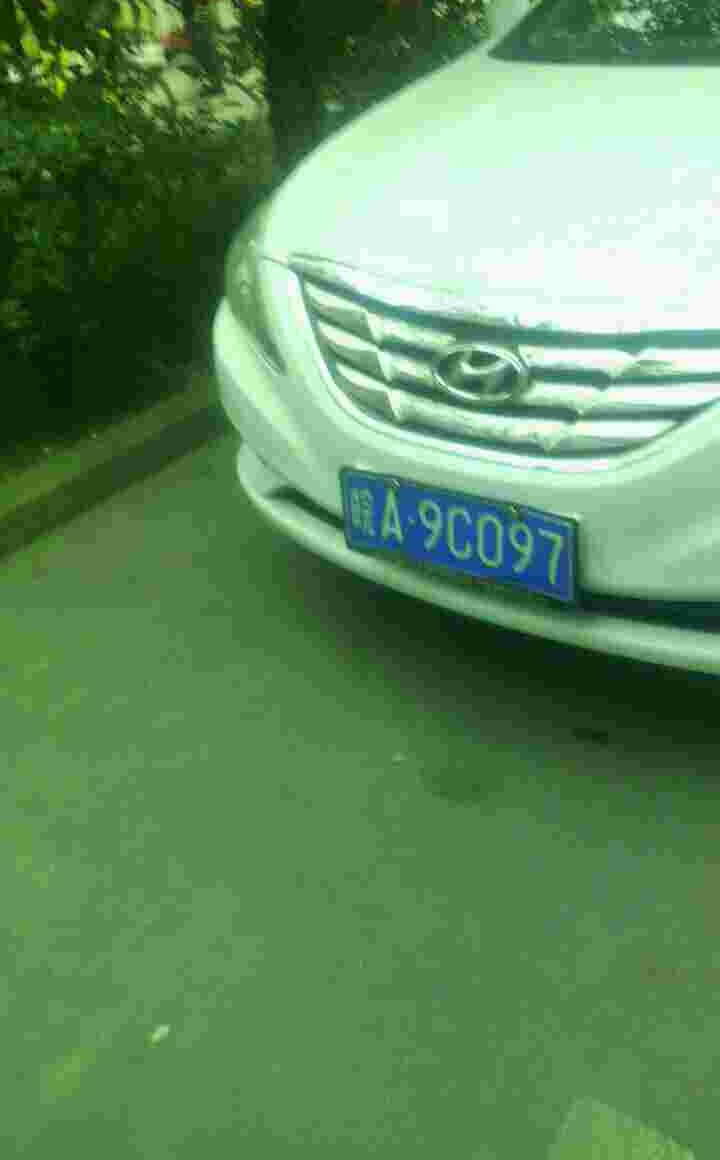license_plate: (335, 471, 585, 594)
